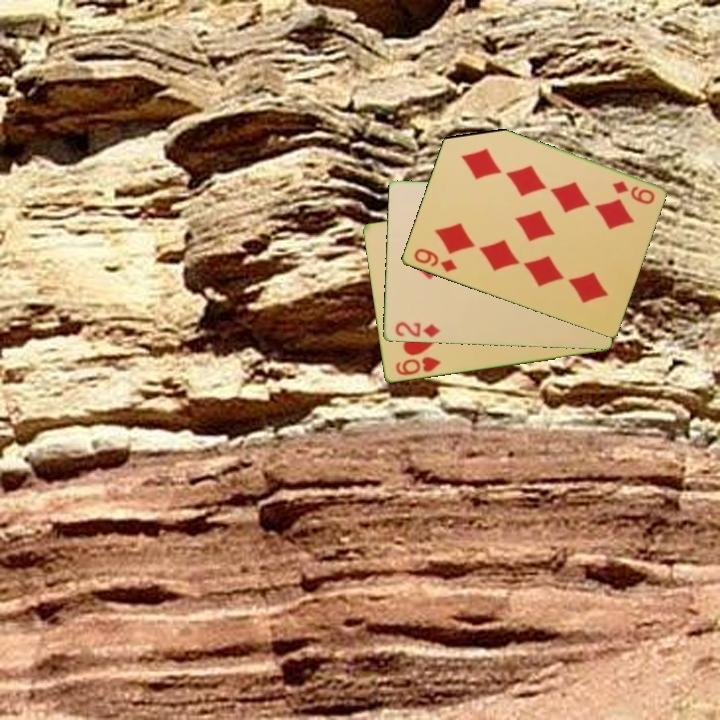2d: (392, 319, 443, 340)
6h: (392, 353, 443, 379)
9d: (410, 245, 459, 276), (608, 177, 657, 207)
